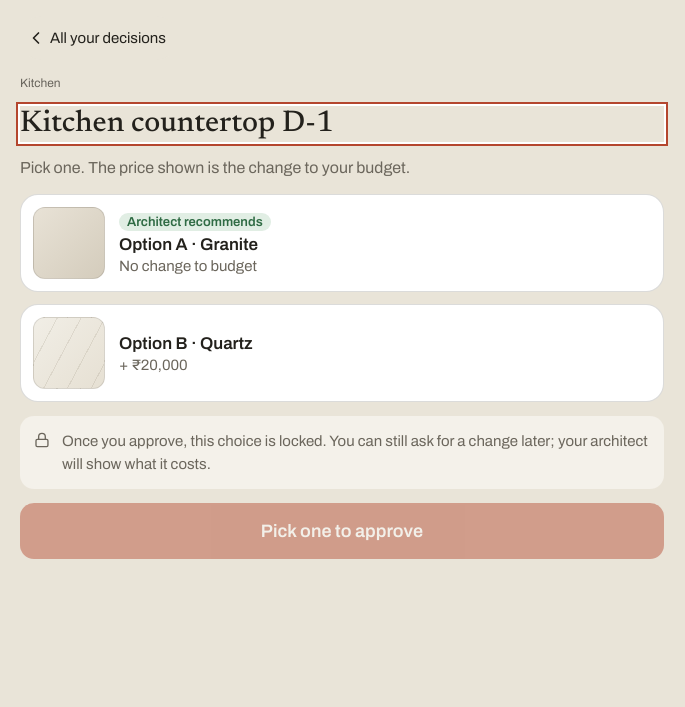
Test: U2b — one decision on its own screen › Back, the nav, and a decision no longer theirs all return to the list
The image size is (685, 707).
Click the button with test id "decision-focus-back".
click(99, 38)  # box [20, 16, 178, 60]
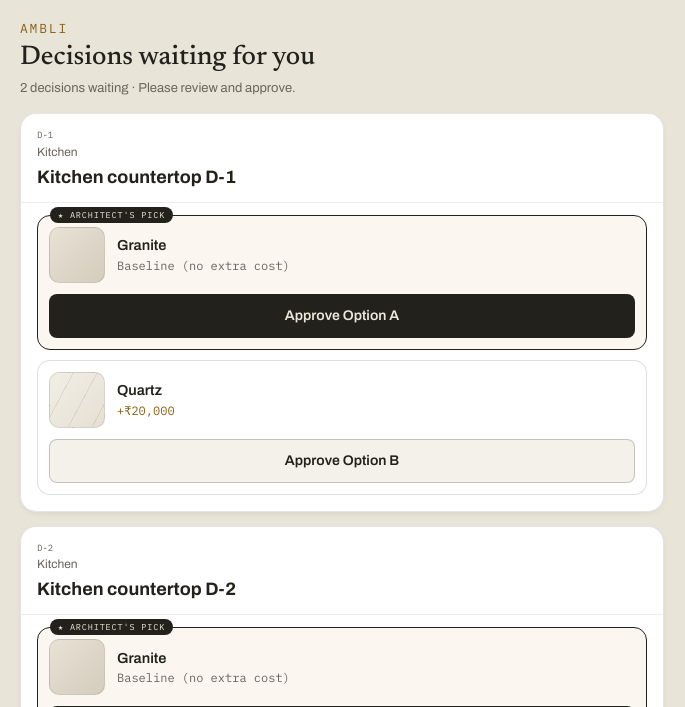
Result: the text "Decisions waiting for you" is shown at [20, 44, 315, 71]
